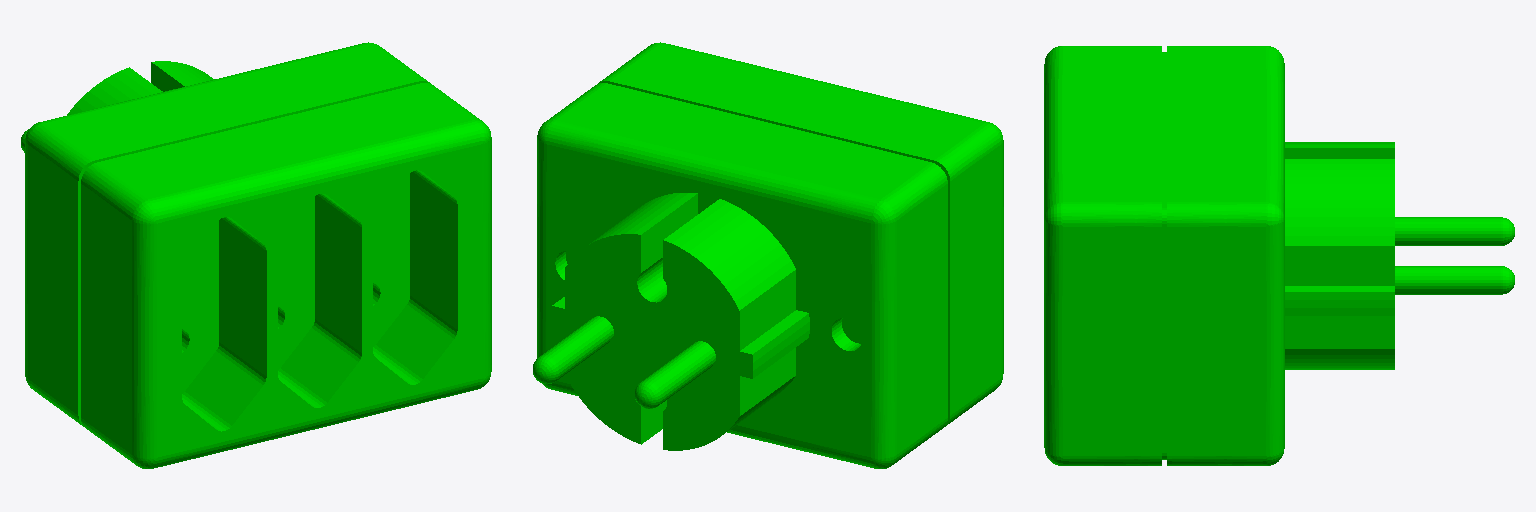
The robot description file, URDF, robot "obj_000019":
<?xml version="1.0" ?>
<robot name="obj_000019">
   <link name="base_link">
      <visual>
         <geometry>
            <mesh filename="package://agimus_demo_05_pick_and_place/urdf/tless/obj_19.obj" scale="0.001 0.001 0.001"/>
         </geometry>
         <material name="mat_part0">
            <color rgba="0.0 0.9 0.0 1.0"/>
         </material>
      </visual>
      <collision>
         <geometry>
            <mesh filename="package://agimus_demo_05_pick_and_place/urdf/tless/obj_19.obj" scale="0.001 0.001 0.001"/>
         </geometry>
      </collision>
      <inertial>
         <origin rpy="0 0 0" xyz="0.0 0.0 0.0"/>
         <mass value="0.1"/>
         <inertia ixx="1" ixy="0" ixz="0" iyy="1" iyz="0" izz="1"/>
      </inertial>
   </link>
</robot>

--- What the picture shows (computed from the rendered views, not written in the file) ---
The picture shows the robot from 3 angles, left to right: view 1: azimuth 30°, elevation 25°; view 2: azimuth 150°, elevation 25°; view 3: azimuth 270°, elevation 25°; orthographic projection.
Robot: obj_000019 — 1 links, 0 joints (none); root link base_link; default pose: all joints at 0.
Links seen in each view (by area): view 1: base_link; view 2: base_link; view 3: base_link.
Link boxes in pixels (bbox=[...]): base_link: bbox=[21, 42, 491, 468]; base_link: bbox=[533, 42, 1003, 468]; base_link: bbox=[1044, 46, 1514, 465].
Size in the robot's own frame: 0.0655 by 0.0765 by 0.047 metres.
Meshes: 1 distinct files referenced, 1 mesh visuals loaded (1 OBJ).
